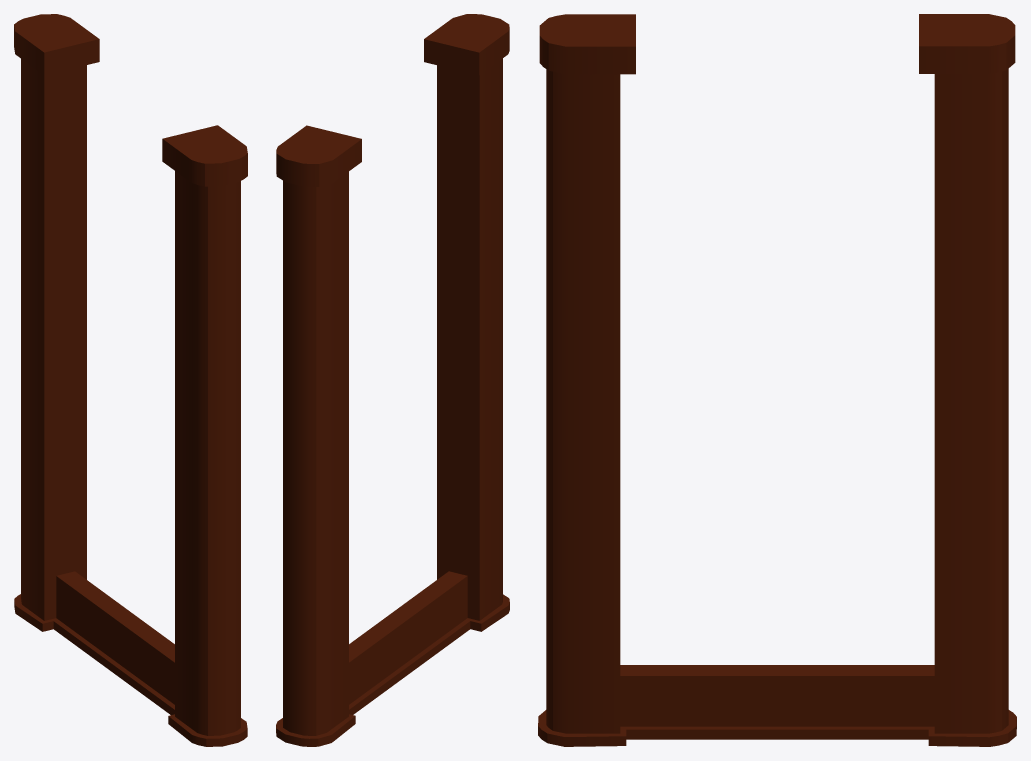
The model's file is Pillar_variant02.glb.
3 views of the same model, side by side, from view 1: azimuth 30°, elevation 25°; view 2: azimuth 150°, elevation 25°; view 3: azimuth 270°, elevation 25° (orthographic). The views are drawn at different scales.
Parts seen in each view (by area): view 1: Cube.045; view 2: Cube.045; view 3: Cube.045.
Boxes of the visible parts, x1,y1,x2,y2 form: Cube.045: (14,14,247,746); Cube.045: (276,14,509,746); Cube.045: (538,14,1016,746).
Size of the model in its own units: 2.32 by 23.16 by 14.34.
